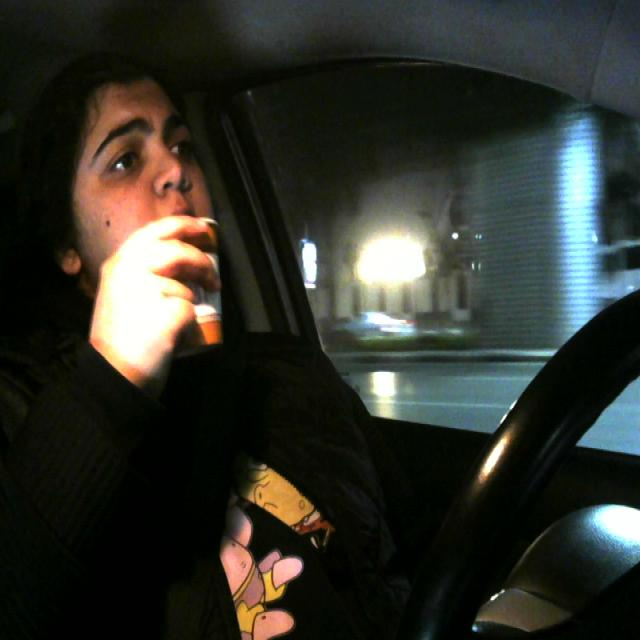drinking: (144, 210, 224, 355)
